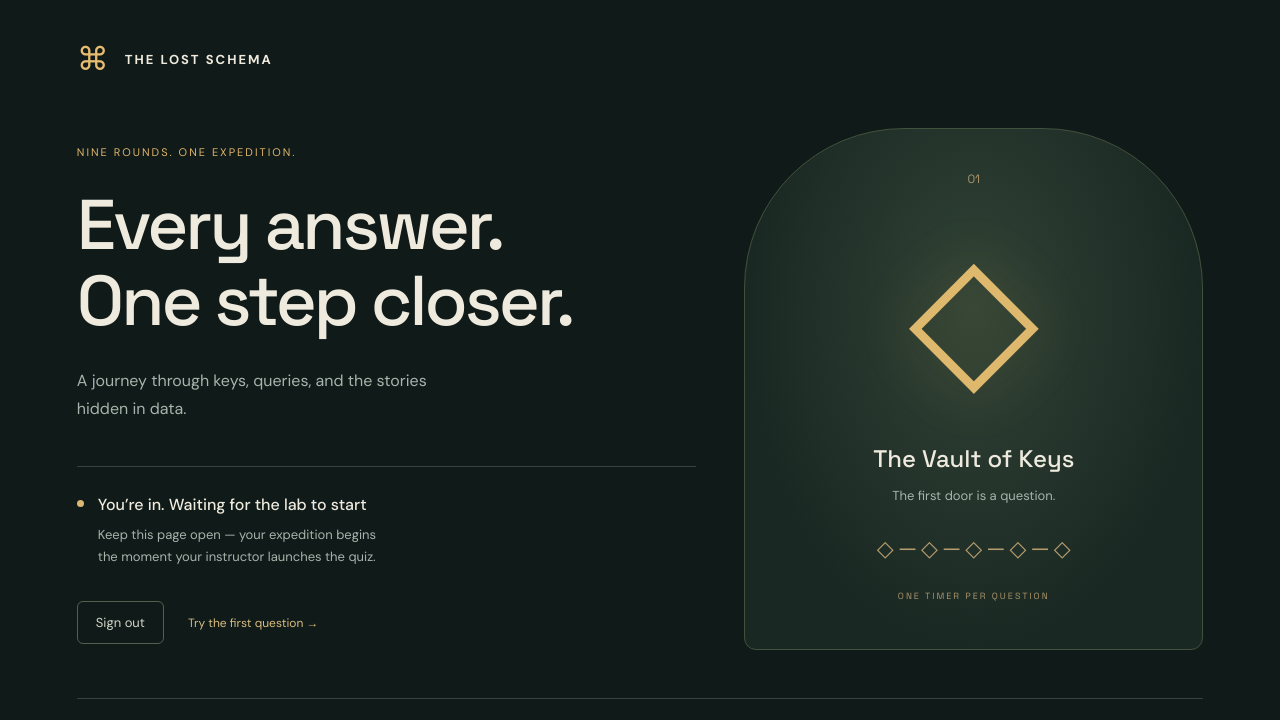
Scenario: Home sign-in and role routing › signs out back to the sign-in state
Click the button "Sign out" at (120, 623), box [77,601,164,644]
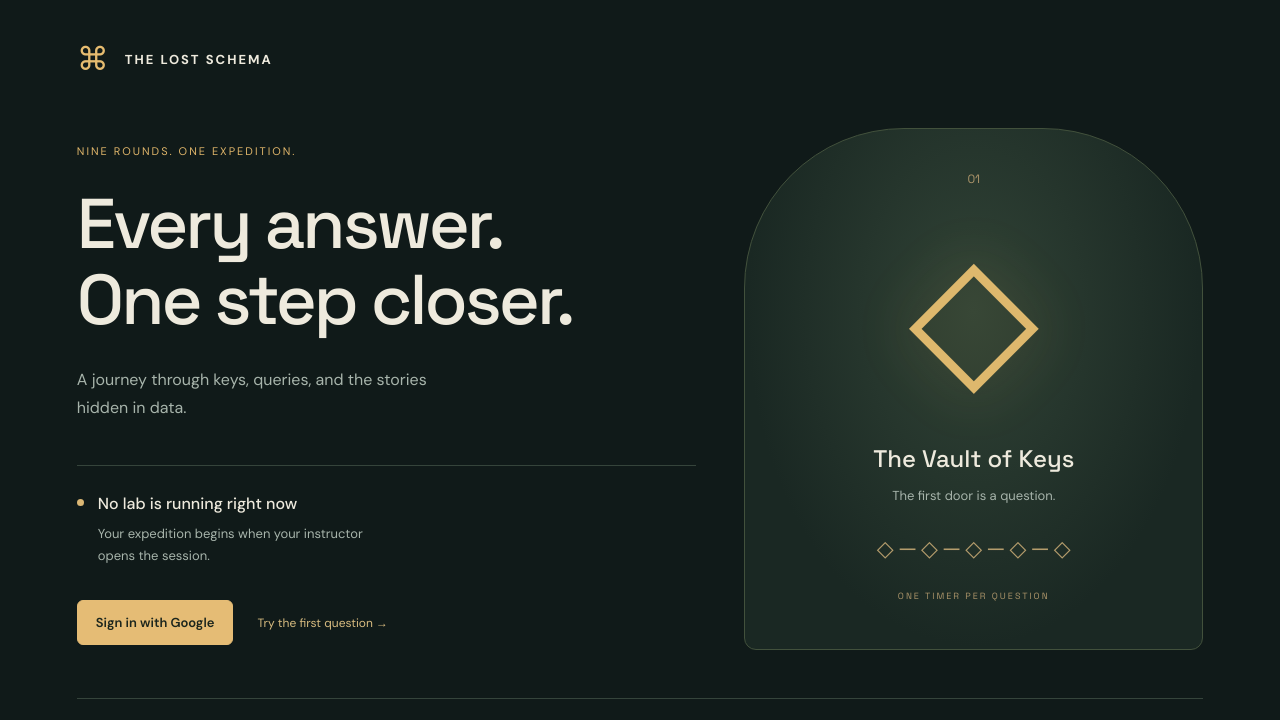
Result: the button "Sign in with Google" is shown at [77,600,234,645]
